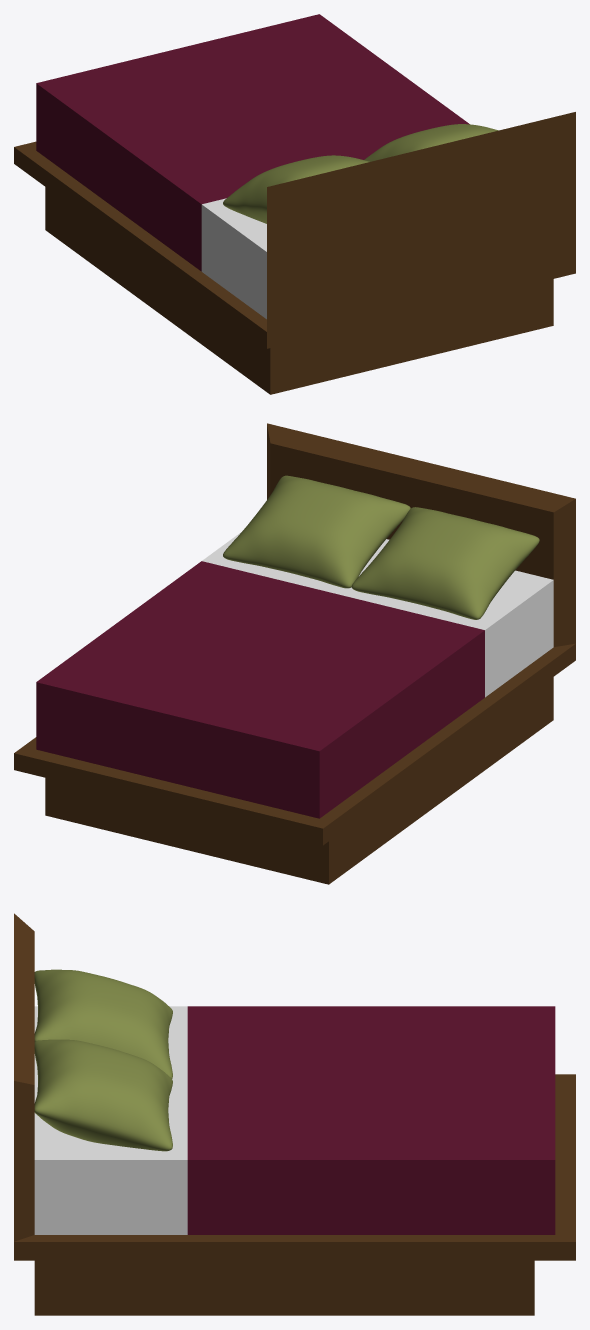
File: The realest normal bed.fbx
3 views of the same model, one above another, from view 1: azimuth 30°, elevation 25°; view 2: azimuth 150°, elevation 25°; view 3: azimuth 270°, elevation 25° (orthographic). The views are drawn at different scales.
Visible parts, largest first — view 1: Plane.001; view 2: Plane.001; view 3: Plane.001.
Boxes of the visible parts, bbox=[...] form: Plane.001: bbox=[14, 14, 575, 394]; Plane.001: bbox=[14, 423, 575, 884]; Plane.001: bbox=[14, 913, 575, 1315].
Bounding box in the file's own units: 648 × 436 × 918.
